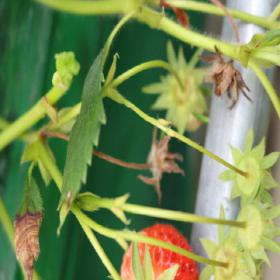Gray Mold: (132, 126, 184, 203), (197, 45, 255, 111)
